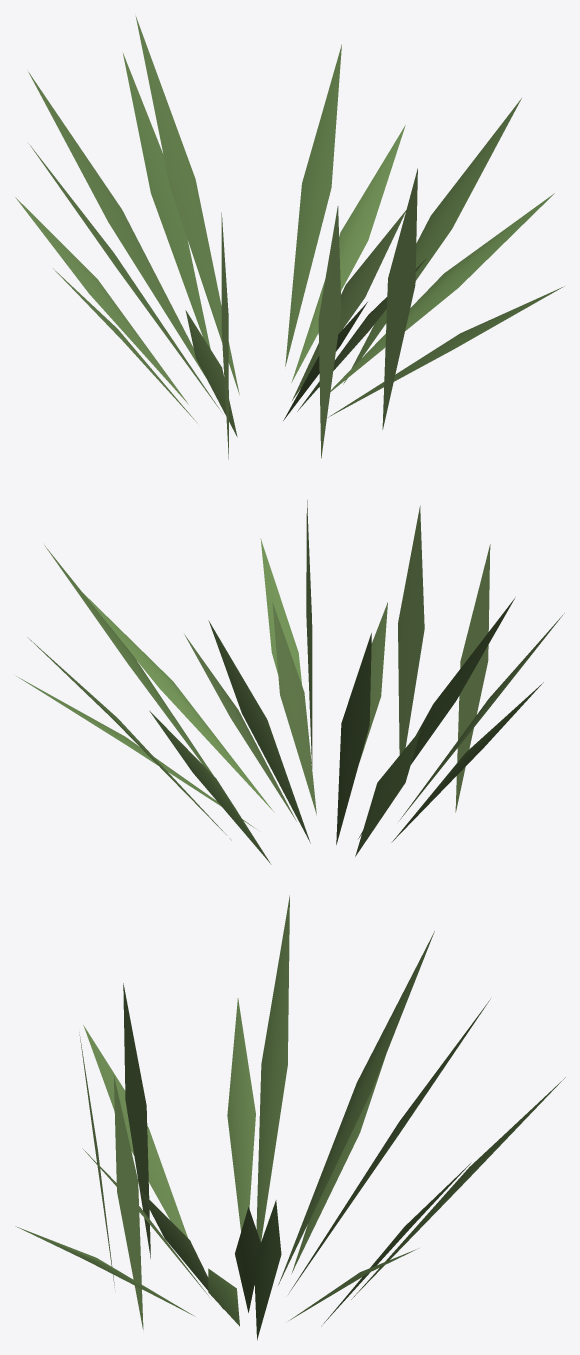
Rendered from grass-kit.mobile.glb.
The picture shows the model from 3 angles, top to bottom: view 1: azimuth 30°, elevation 25°; view 2: azimuth 150°, elevation 25°; view 3: azimuth 270°, elevation 25°; orthographic projection.
Visible parts, largest first — view 1: SA_G05_MESH_60, SA_G05_MESH_61, SA_G05_MESH_62; view 2: SA_G05_MESH_61, SA_G05_MESH_62, SA_G05_MESH_60; view 3: SA_G05_MESH_60, SA_G05_MESH_61, SA_G05_MESH_62.
Part boxes in pixels (left/top/right/bottom): SA_G05_MESH_60: left=28, top=52, right=417, bottom=437; SA_G05_MESH_61: left=28, top=44, right=554, bottom=458; SA_G05_MESH_62: left=15, top=16, right=564, bottom=459; SA_G05_MESH_61: left=27, top=505, right=543, bottom=844; SA_G05_MESH_62: left=44, top=538, right=490, bottom=856; SA_G05_MESH_60: left=16, top=500, right=564, bottom=864; SA_G05_MESH_60: left=83, top=895, right=565, bottom=1329; SA_G05_MESH_61: left=79, top=931, right=471, bottom=1326; SA_G05_MESH_62: left=15, top=983, right=490, bottom=1340.
Size of the model in its own units: 0.529 by 0.314 by 0.52.
